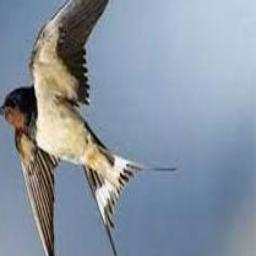Swallow: (0, 0, 176, 256)
